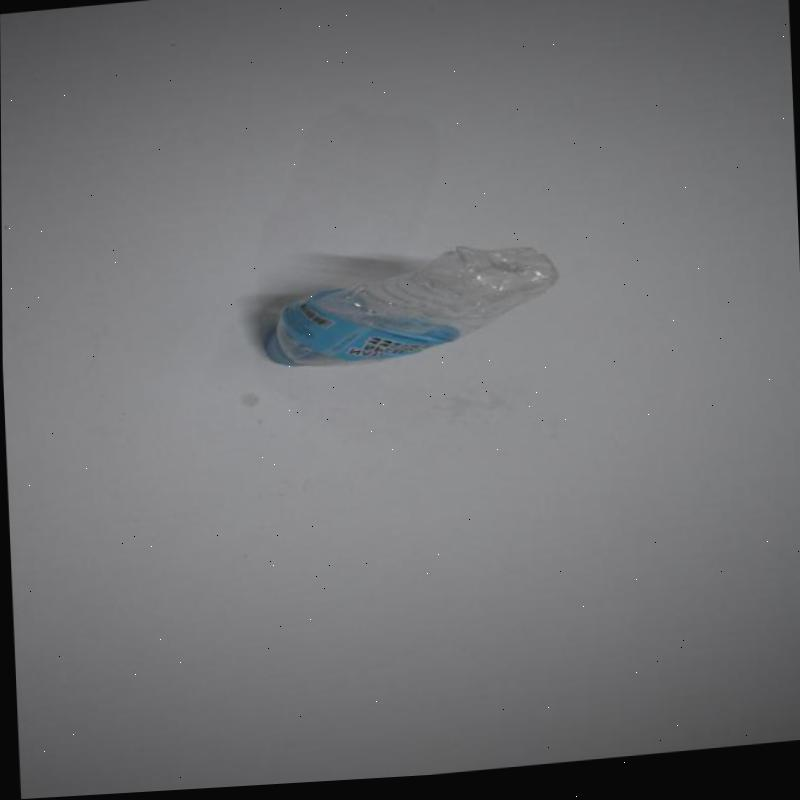botella: (258, 242, 561, 377)
